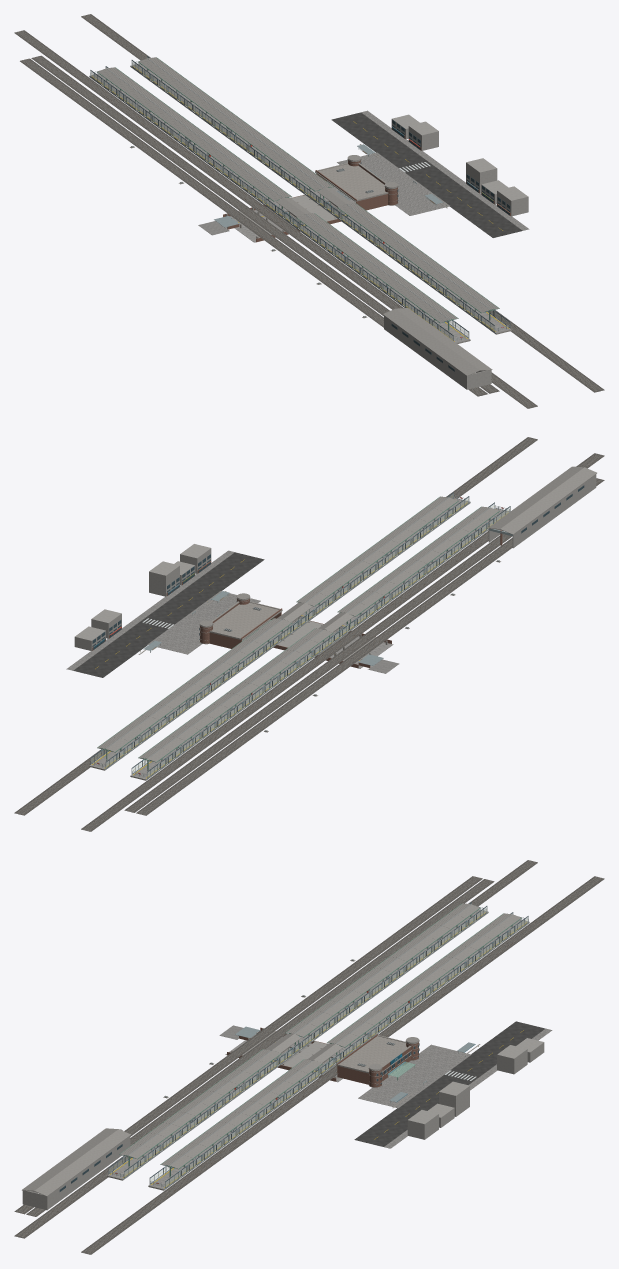
Rendered from Line4_Ansan_Game.fbx.
The picture shows the model from 3 angles, top to bottom: view 1: azimuth 30°, elevation 25°; view 2: azimuth 150°, elevation 25°; view 3: azimuth 330°, elevation 25°; orthographic projection.
Parts seen in each view (by area): view 1: Rails_Station, Canopy_Station, Station_Forecourt_Station, Platforms_Station, PSD_Static_Station, Ansan_Service_Shed_Station, Station_Brick_Hall_Station, Platform_Concourse_Station, Platform_Station; view 2: Rails_Station, Canopy_Station, Station_Forecourt_Station, Platforms_Station, PSD_Static_Station, Ansan_Service_Shed_Station, Station_Brick_Hall_Station, Platform_Concourse_Station, Platform_Station; view 3: Rails_Station, Canopy_Station, Station_Forecourt_Station, Platforms_Station, PSD_Static_Station, Ansan_Service_Shed_Station, Station_Brick_Hall_Station, Platform_Concourse_Station, Platform_Station.
Part boxes in pixels (x1,y1,x2,y2): Rails_Station: (14, 14, 604, 408); Canopy_Station: (97, 57, 499, 331); Station_Forecourt_Station: (331, 110, 529, 237); Platforms_Station: (89, 63, 511, 343); PSD_Static_Station: (90, 56, 510, 340); Ansan_Service_Shed_Station: (130, 146, 492, 389); Station_Brick_Hall_Station: (315, 155, 398, 210); Platform_Concourse_Station: (198, 187, 352, 242); Platform_Station: (90, 60, 509, 341); Rails_Station: (14, 437, 604, 831); Canopy_Station: (97, 496, 499, 770); Station_Forecourt_Station: (66, 544, 264, 677); Platforms_Station: (89, 498, 509, 780); PSD_Static_Station: (90, 492, 510, 778); Ansan_Service_Shed_Station: (264, 466, 596, 732); Station_Brick_Hall_Station: (199, 593, 282, 648); Platform_Concourse_Station: (246, 602, 399, 673); Platform_Station: (90, 495, 509, 778); Rails_Station: (14, 860, 604, 1254); Canopy_Station: (119, 903, 521, 1177); Station_Forecourt_Station: (354, 1021, 552, 1148); Platforms_Station: (107, 909, 529, 1190); PSD_Static_Station: (108, 902, 528, 1188); Ansan_Service_Shed_Station: (22, 959, 355, 1210); Station_Brick_Hall_Station: (336, 1034, 419, 1087); Platform_Concourse_Station: (219, 1025, 342, 1082); Platform_Station: (109, 906, 528, 1187).
Size of the model in its own units: 8856 by 685 by 30200.
